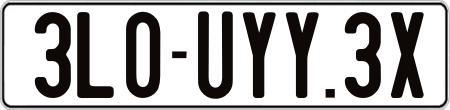0: (124, 12, 160, 100)
3: (34, 12, 74, 104), (344, 12, 383, 101)
L: (75, 10, 115, 100)
U: (196, 10, 236, 100)
X: (389, 11, 428, 101)
Y: (241, 9, 277, 97), (283, 11, 316, 102)
